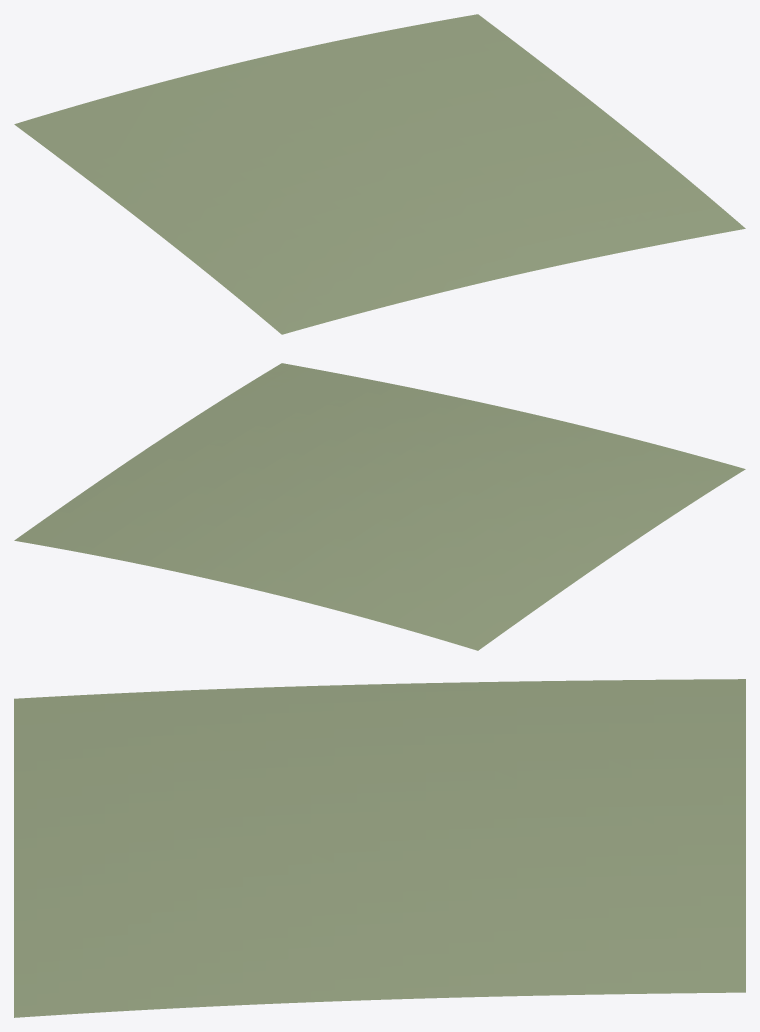
The model's file is valley-15-6.glb.
3 views of the same model, one above another, from view 1: azimuth 30°, elevation 25°; view 2: azimuth 150°, elevation 25°; view 3: azimuth 270°, elevation 25° (orthographic). The views are drawn at different scales.
Visible parts, largest first — view 1: valley-15-6; view 2: valley-15-6; view 3: valley-15-6.
Part boxes in pixels (x1=…): valley-15-6: x1=14, y1=14, x2=745, y2=334; valley-15-6: x1=14, y1=363, x2=745, y2=650; valley-15-6: x1=14, y1=679, x2=745, y2=1017.
Size of the model in its own units: 256 by 14.9 by 256.
